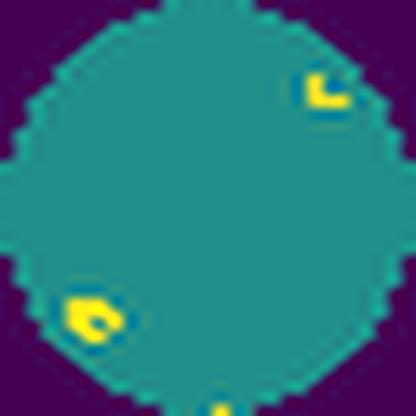Loc: (64, 295, 123, 344), (306, 72, 351, 110)
